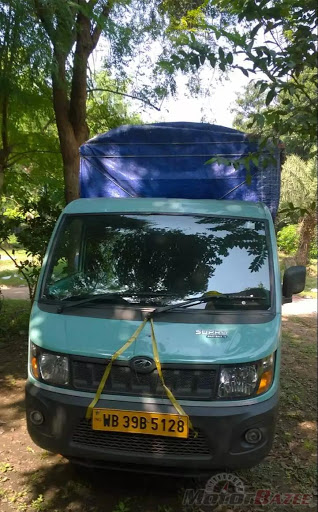numberplate: (90, 407, 190, 440)
